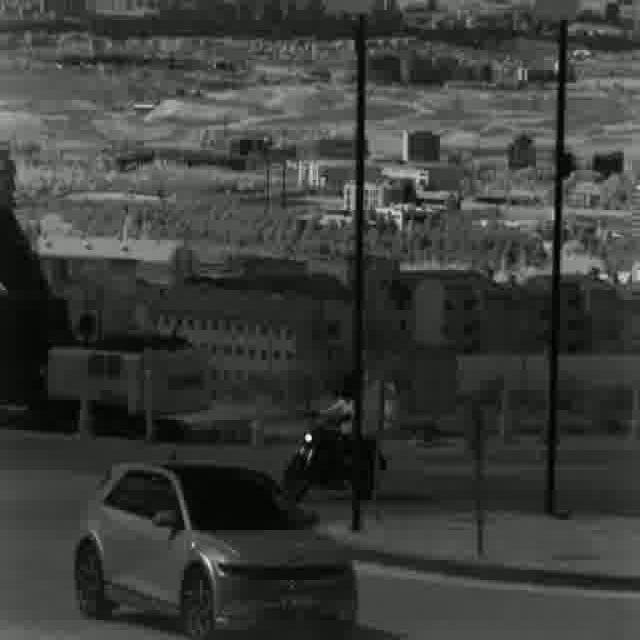Car: (75, 457, 356, 640)
Motorcycle: (284, 373, 384, 502)
